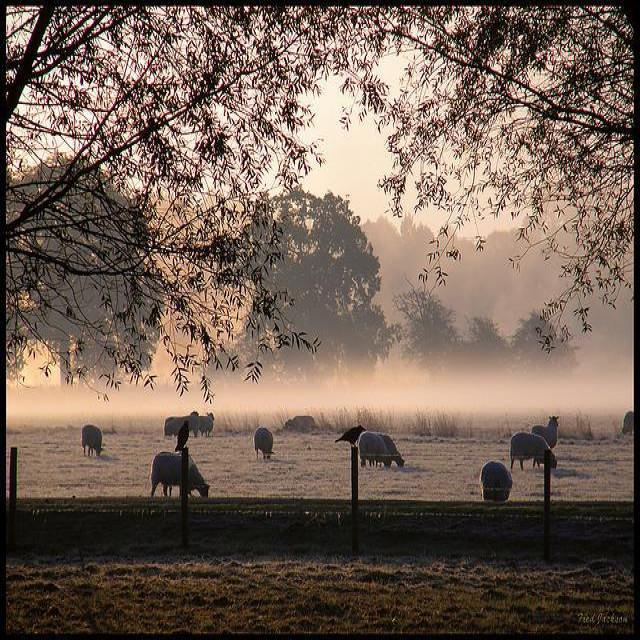Sheep: (148, 446, 212, 498)
